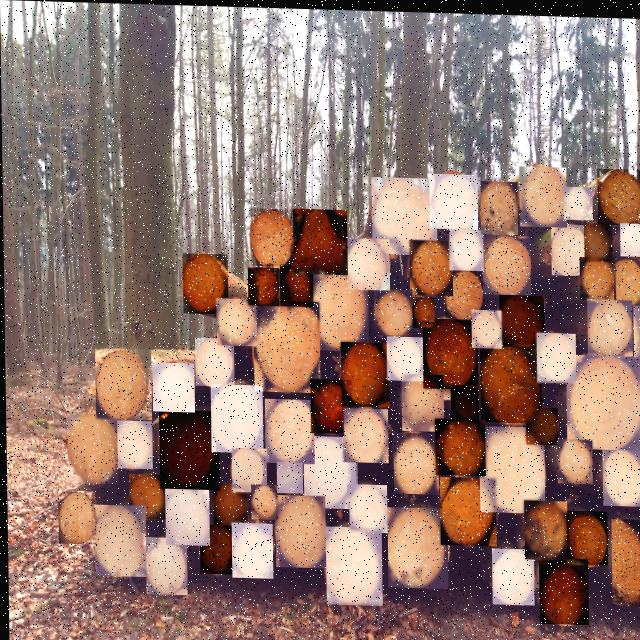wood-log: (565, 351, 640, 447), (252, 299, 319, 391), (478, 423, 544, 510), (371, 175, 437, 253), (479, 340, 541, 421), (386, 505, 447, 586), (158, 409, 219, 489), (309, 270, 368, 350), (324, 525, 381, 604), (95, 347, 151, 419), (302, 434, 357, 507), (438, 474, 495, 543), (422, 316, 477, 387), (93, 504, 145, 576), (274, 493, 325, 566), (66, 412, 117, 484), (209, 383, 262, 452), (292, 207, 347, 273), (537, 554, 587, 622), (340, 340, 389, 405), (264, 397, 313, 462), (482, 232, 530, 292), (519, 163, 566, 224), (392, 430, 438, 492), (434, 416, 484, 473), (249, 207, 297, 266), (182, 252, 228, 313), (429, 171, 477, 229), (610, 515, 640, 603), (586, 296, 632, 353), (523, 497, 566, 557), (164, 488, 208, 545), (400, 371, 443, 429), (498, 291, 544, 345), (597, 165, 640, 222), (490, 545, 533, 602), (144, 536, 186, 594), (343, 406, 387, 461), (409, 237, 452, 293), (230, 521, 272, 577), (309, 378, 351, 433), (347, 236, 390, 288), (601, 446, 640, 503), (565, 508, 606, 562), (151, 361, 194, 411), (444, 268, 485, 319), (480, 178, 518, 232), (57, 490, 94, 544), (536, 330, 575, 381), (215, 297, 256, 345), (550, 221, 587, 273), (194, 336, 233, 385), (348, 482, 386, 531), (198, 523, 235, 573), (374, 287, 412, 334), (116, 420, 151, 468), (128, 473, 164, 519), (230, 446, 266, 491), (386, 334, 422, 379), (556, 436, 591, 481), (212, 482, 246, 528), (579, 253, 613, 297), (449, 226, 483, 268), (279, 264, 313, 305), (247, 266, 279, 305), (615, 254, 640, 303), (525, 404, 557, 442), (470, 307, 501, 346), (584, 220, 612, 258), (449, 382, 478, 418), (563, 183, 592, 217), (249, 483, 276, 518), (275, 460, 302, 492), (411, 295, 434, 328), (619, 219, 640, 253), (632, 302, 640, 356), (635, 300, 640, 343)
